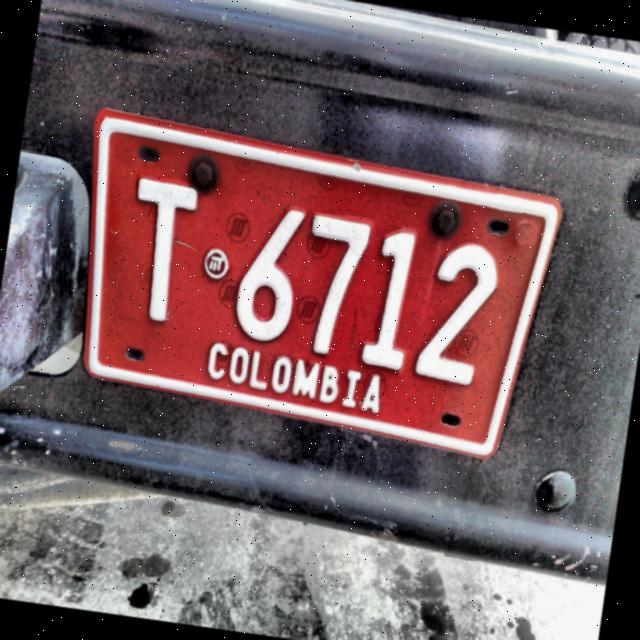1: (360, 223, 426, 377)
2: (414, 238, 504, 394)
6: (227, 202, 309, 352)
7: (293, 212, 373, 362)
T: (110, 172, 208, 338)
